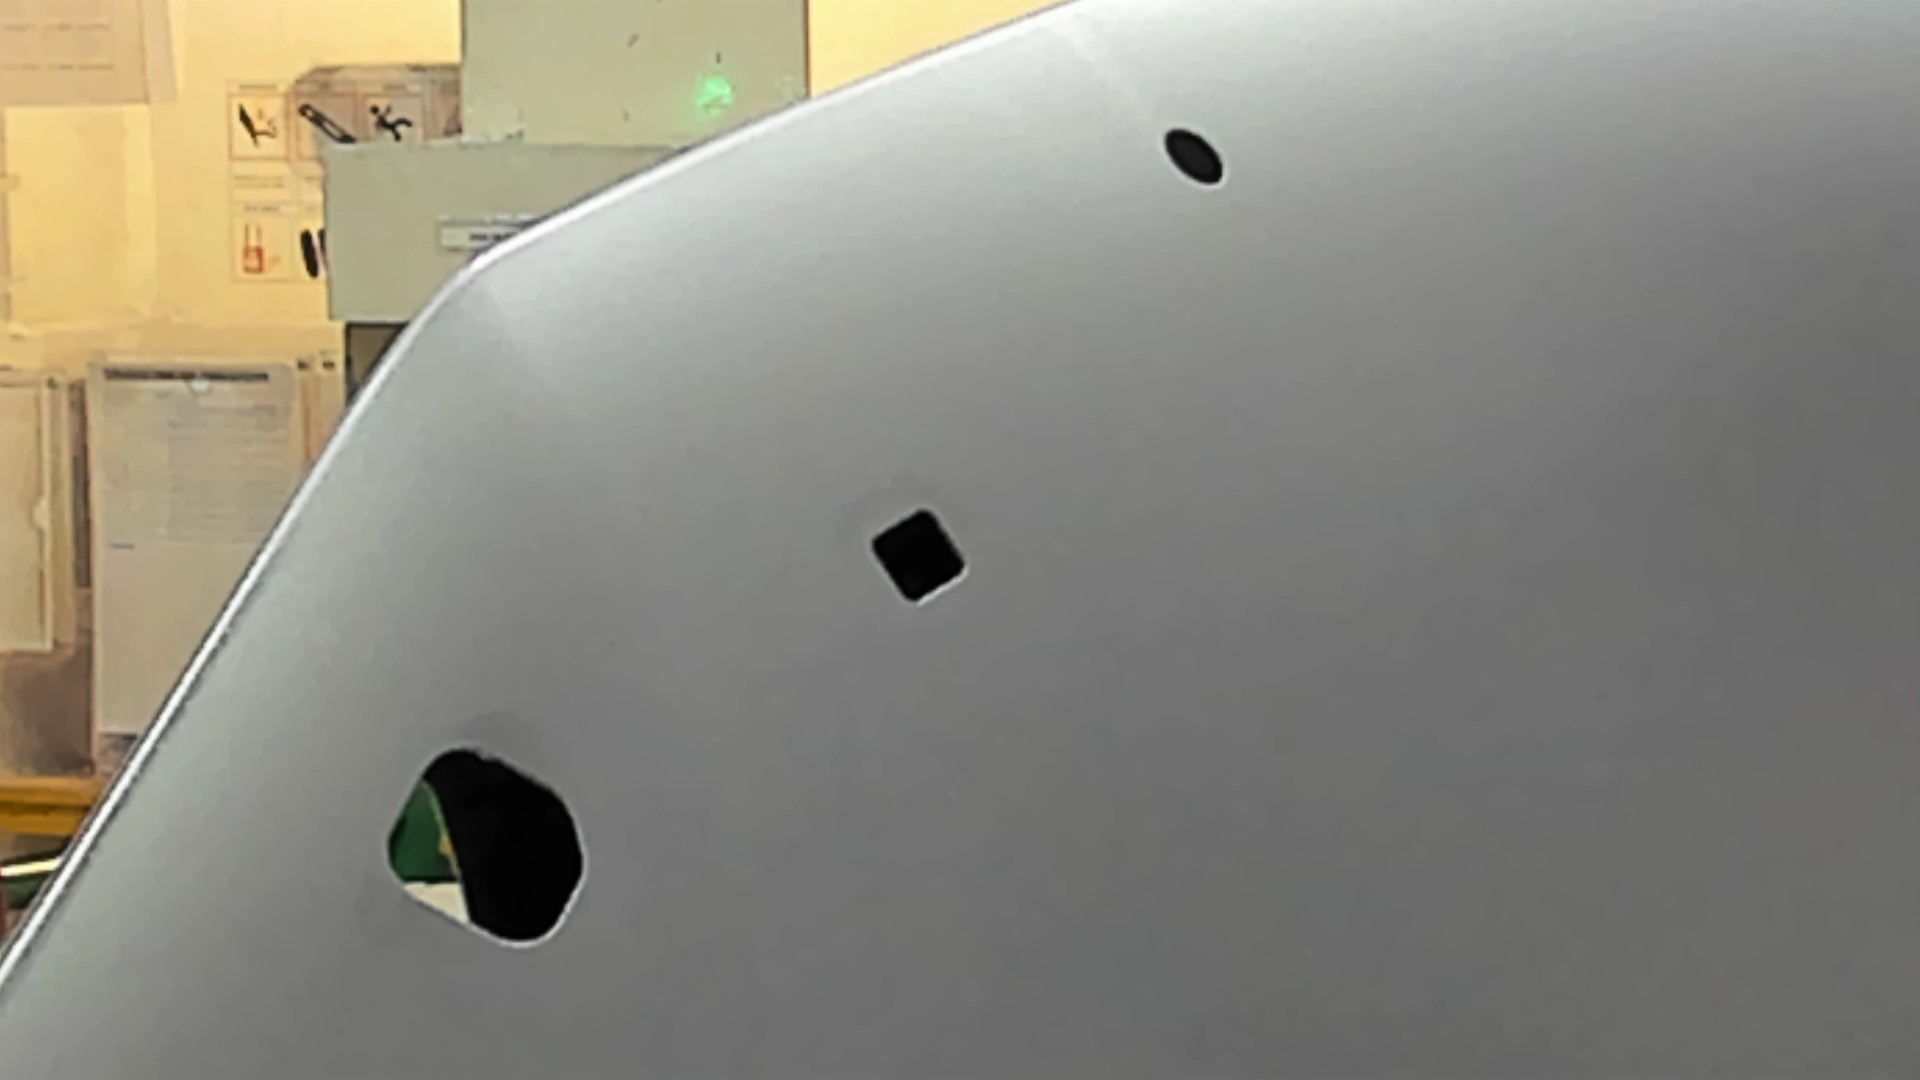chico: (1151, 109, 1251, 214)
grande: (347, 731, 618, 963)
mediano: (843, 497, 996, 617)
